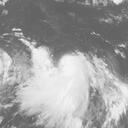cyclone: (30, 44, 95, 102)
